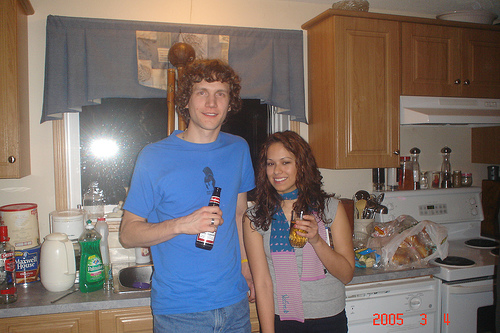without_mask: (184, 75, 233, 133), (263, 139, 305, 193)
